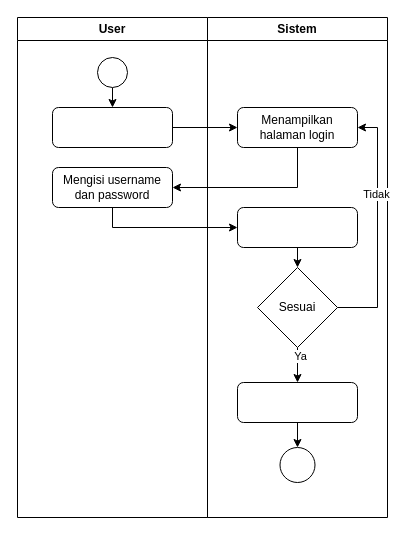
This 407x535 diagram has some shape labels left out. Each missing label, with the box of its shape:
Halaman Login: (52, 106, 172, 148)
Mengecek kesesuaian data: (236, 206, 358, 248)
Tampilkan Menu: (236, 382, 358, 422)
